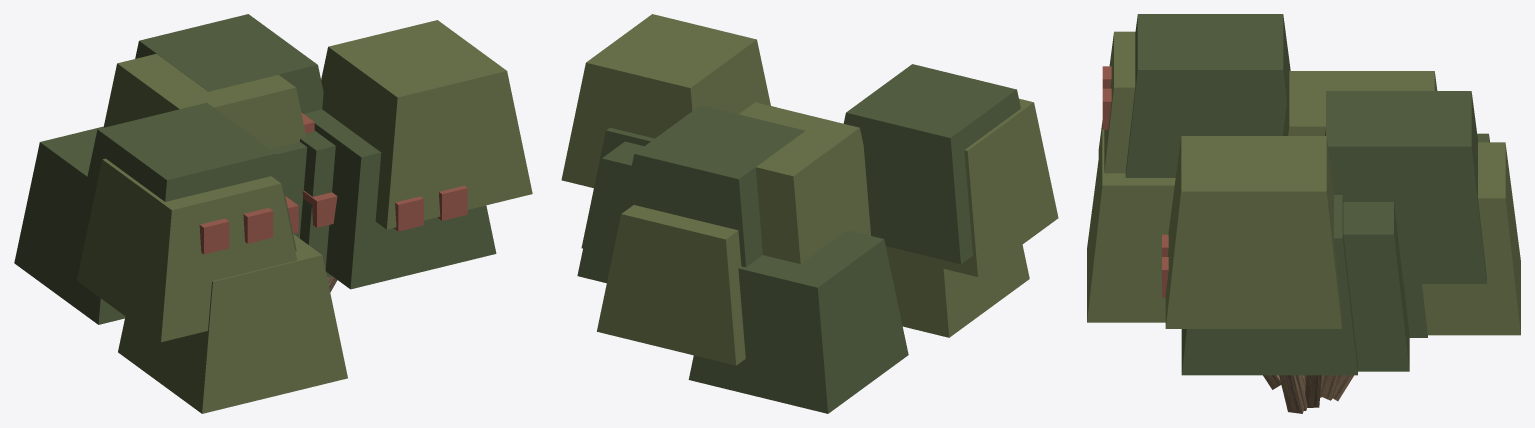
Rendered from berry_bush.glb.
3 renders of one model, left to right at view 1: azimuth 30°, elevation 25°; view 2: azimuth 150°, elevation 25°; view 3: azimuth 270°, elevation 25°, orthographic. The views are drawn at different scales.
Parts seen in each view (by area): view 1: root; view 2: root; view 3: root.
Part boxes in pixels (box(x1,y1,x2,y2)): root: box(14, 14, 532, 413); root: box(561, 14, 1058, 413); root: box(1087, 14, 1520, 413).
Bounding box in the file's own units: 1.11 × 0.7689 × 0.9842.
Materials: 1 (1 with a texture image).
